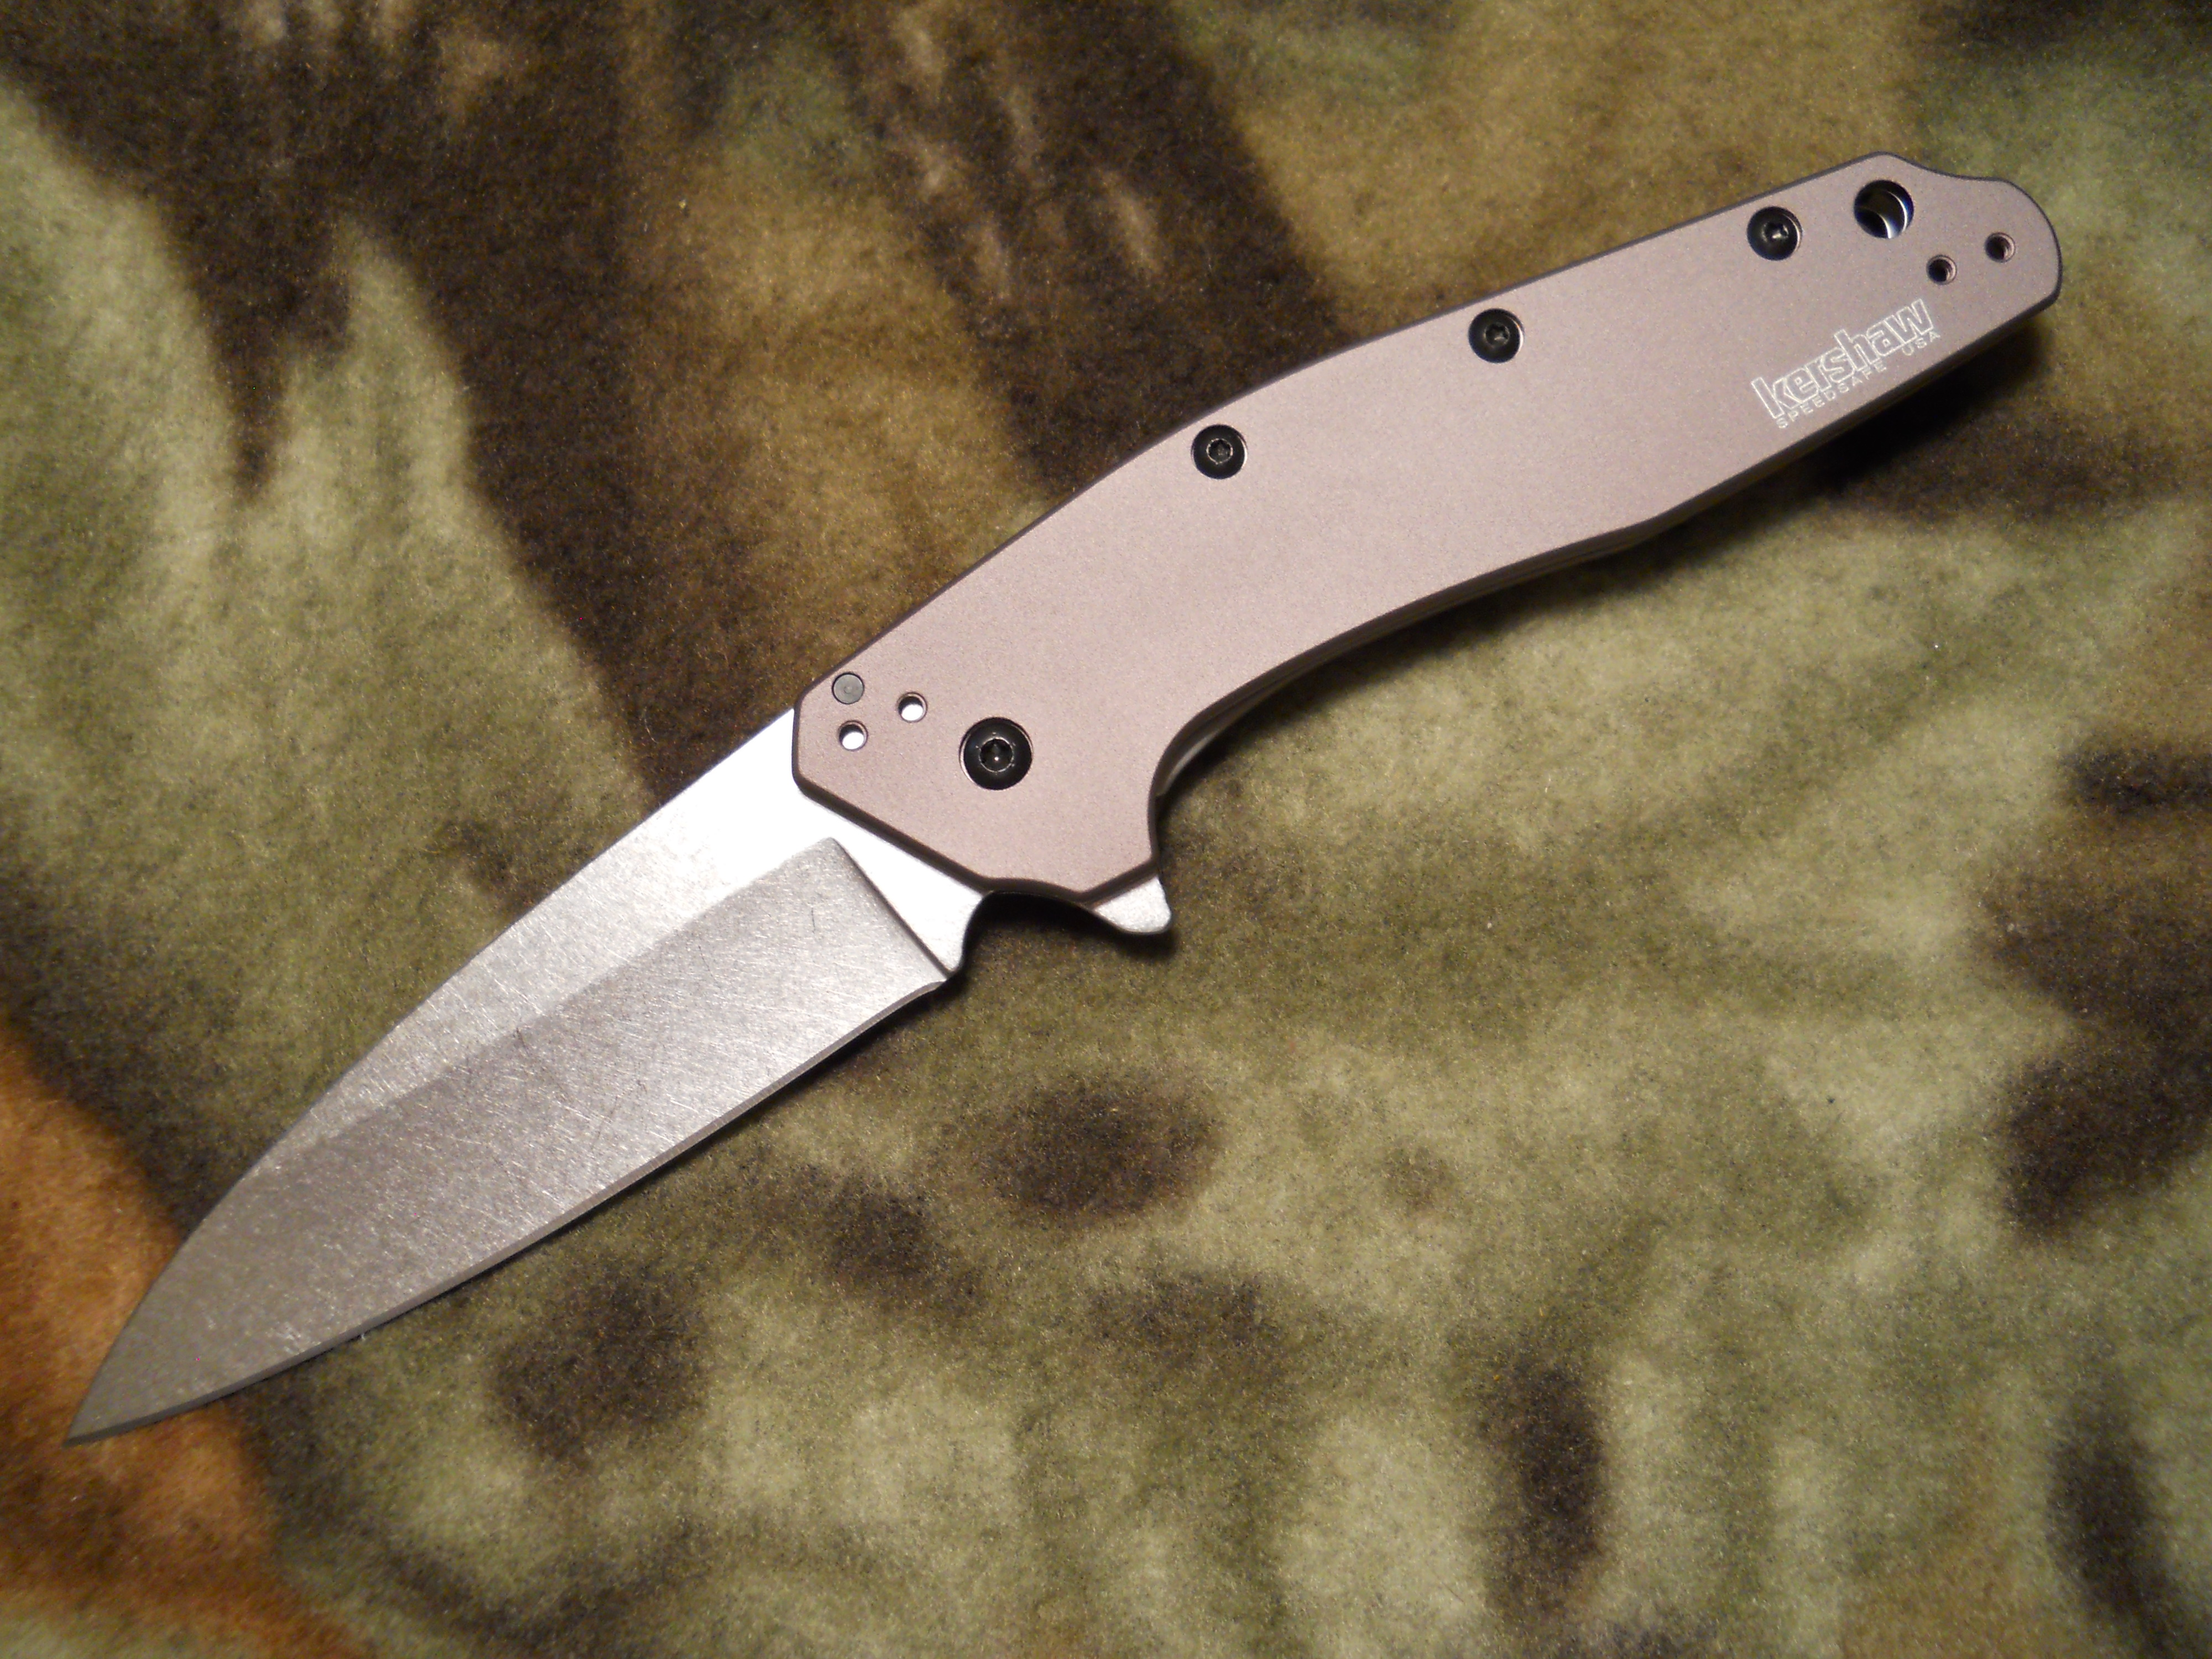knife: (37, 655, 1035, 1486)
